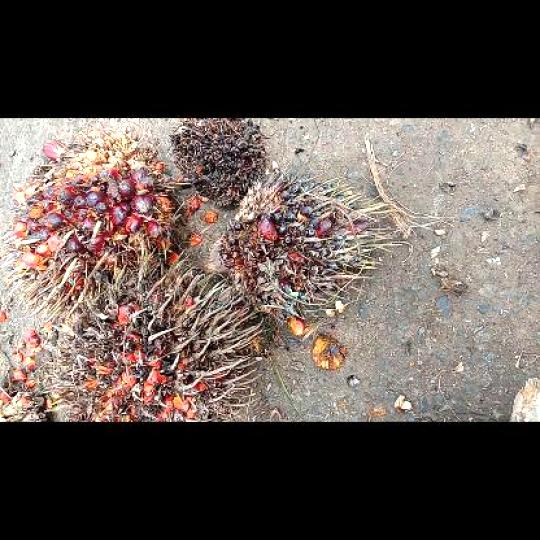masak: (10, 129, 192, 299)
terlalu masak: (51, 255, 264, 420)
